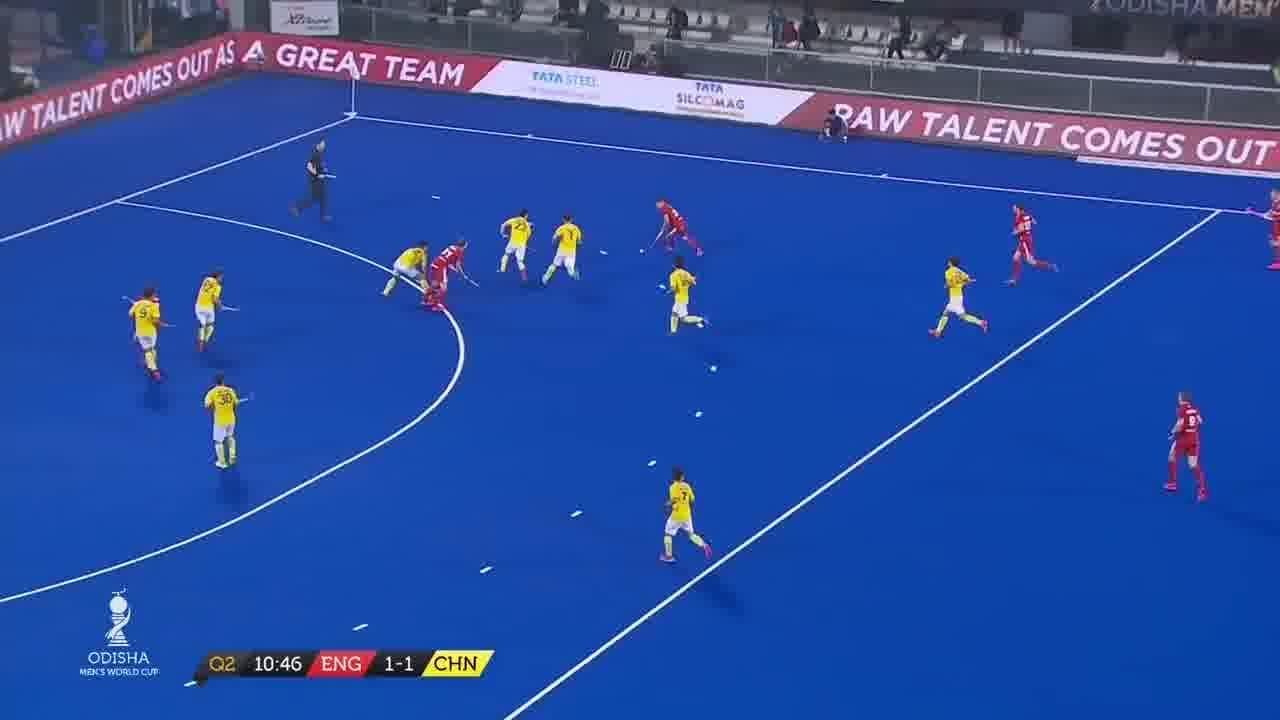ball: (638, 245, 646, 260)
